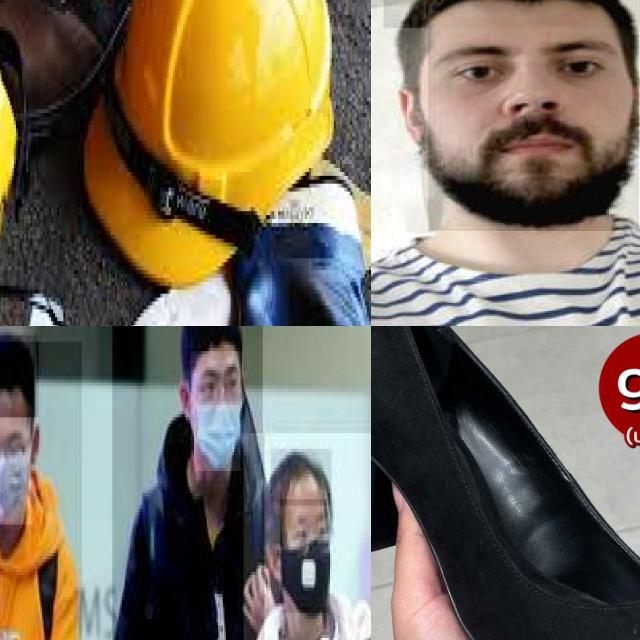Ear-protection: (0, 58, 32, 258)
No_Ear-Protection: (384, 76, 448, 162)
No_Glasses: (418, 28, 632, 103)
Sandals: (371, 326, 640, 640)
face_mask: (191, 351, 242, 474), (280, 499, 332, 616), (0, 417, 30, 524)
face_nomask: (428, 28, 639, 231)
glasses: (0, 437, 31, 469)
hand_glove: (111, 177, 365, 326)
head_helmet: (80, 0, 336, 294)
head_nohelmet: (383, 0, 640, 27), (271, 449, 333, 505), (0, 335, 38, 417), (189, 326, 242, 351)
person: (371, 0, 640, 326), (112, 326, 264, 640), (243, 433, 371, 640), (0, 341, 83, 640)
